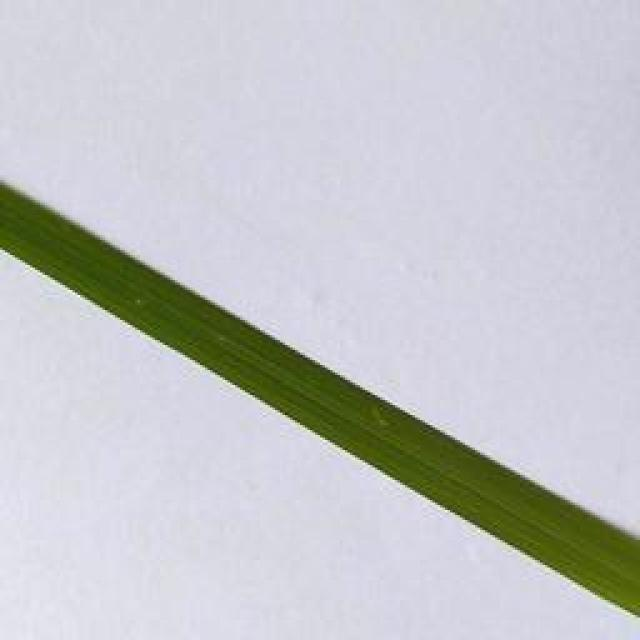Healthy-Plant: (0, 164, 640, 625)
